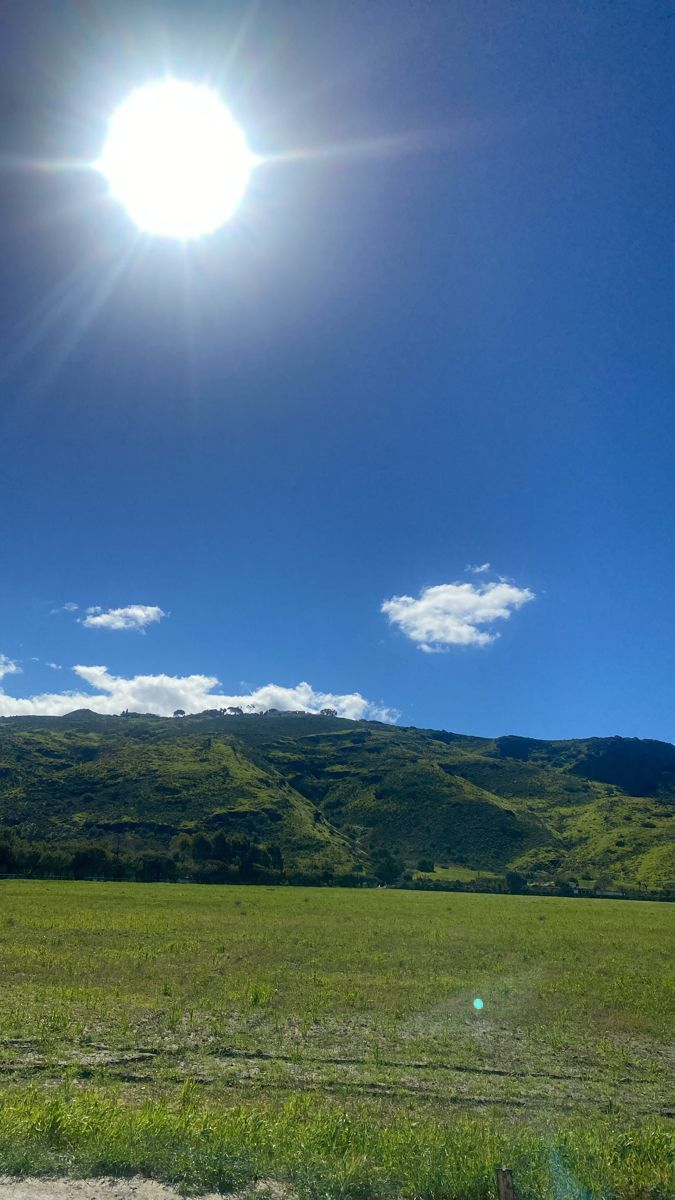sun: (73, 48, 286, 263)
